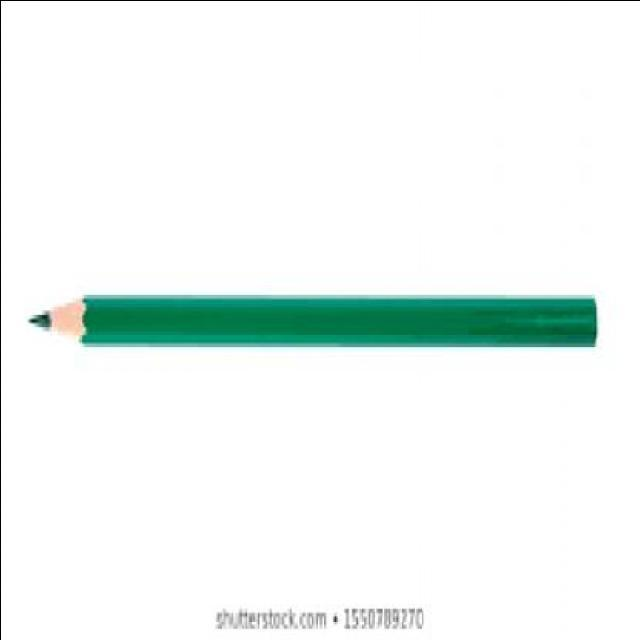Pencil: (20, 269, 111, 371)
